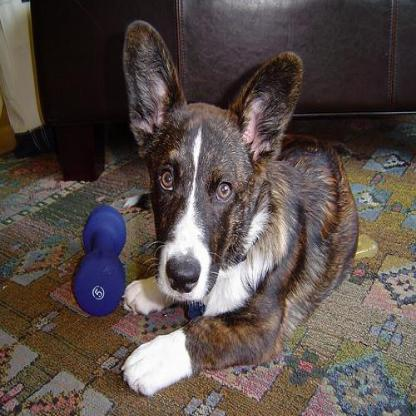Cardigan: (119, 15, 359, 395)
